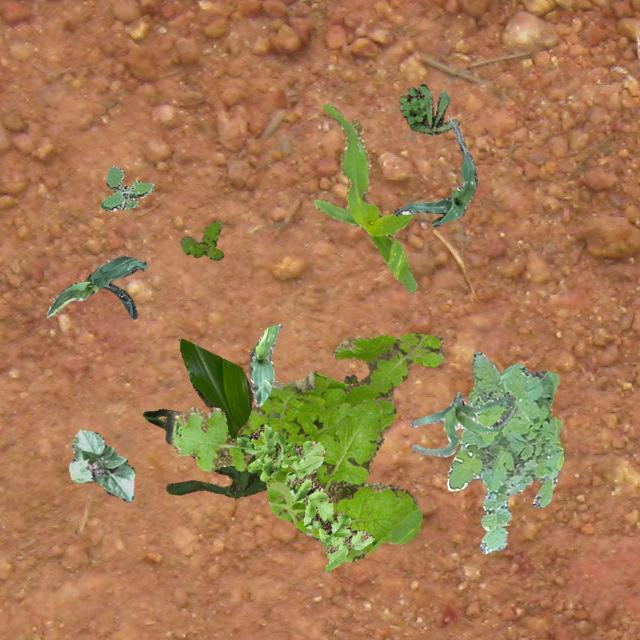crop: (142, 338, 266, 498), (312, 102, 416, 292), (394, 120, 476, 226), (409, 392, 516, 456), (46, 255, 146, 318), (68, 428, 134, 502), (248, 324, 282, 406)
weed: (165, 332, 442, 560), (447, 350, 562, 552), (235, 422, 374, 572), (398, 82, 458, 134), (100, 164, 152, 210), (180, 220, 222, 260), (342, 374, 358, 384)
